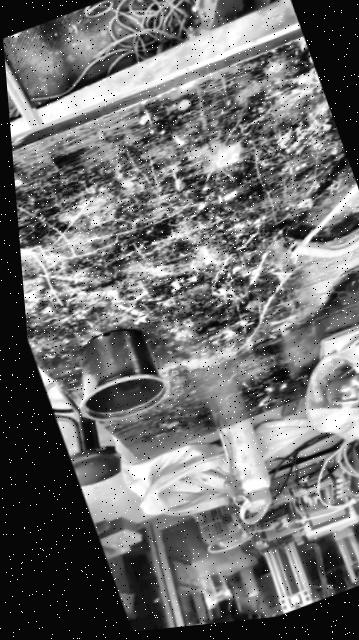pot: (53, 316, 174, 434)
